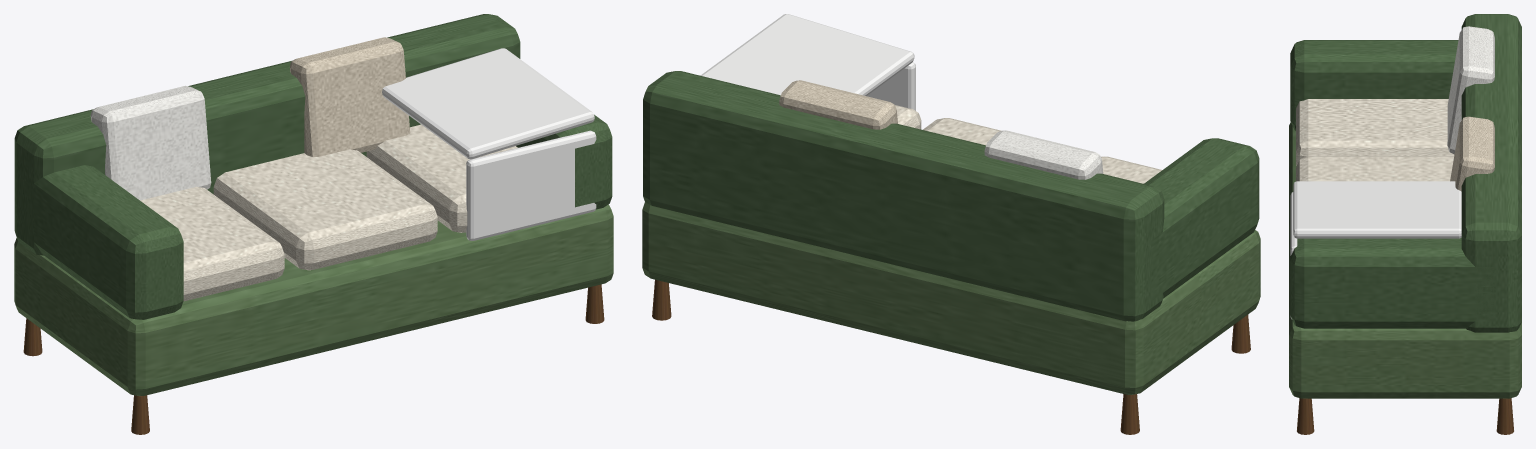
The model's file is sofa_lounge2.glb.
3 renders of one model, left to right at view 1: azimuth 30°, elevation 25°; view 2: azimuth 150°, elevation 25°; view 3: azimuth 270°, elevation 25°, orthographic. The views are drawn at different scales.
Visible parts, largest first — view 1: sofa_base, sofa_back, cush1, armL, blanketA, throwR, throwL, blanketB, cush0, cush2, armR, leg-11 (+2 smaller); view 2: sofa_back, sofa_base, armL, blanketA, throwL, throwR, blanketB, cush1, cush0, leg-1-1, leg1-1, leg-11; view 3: armR, sofa_base, sofa_back, armL, blanketA, cush0, cush1, throwL, throwR, leg1-1, leg11, blanketB.
Part boxes in pixels (x1,y1,x2,y2): sofa_base: (14, 204, 613, 395); sofa_back: (14, 14, 520, 255); cush1: (213, 149, 437, 270); armL: (24, 165, 183, 319); blanketA: (382, 48, 594, 159); throwR: (290, 37, 410, 156); throwL: (90, 85, 211, 200); blanketB: (466, 130, 596, 240); cush0: (140, 186, 284, 301); cush2: (366, 124, 517, 232); armR: (516, 114, 612, 209); leg-11: (131, 395, 149, 434); sofa_back: (643, 71, 1164, 321); sofa_base: (642, 202, 1260, 394); armL: (1144, 138, 1259, 300); blanketA: (700, 14, 914, 95); throwL: (984, 130, 1103, 179); throwR: (779, 80, 897, 129); blanketB: (866, 62, 915, 110); cush1: (923, 118, 1001, 145); cush0: (1101, 156, 1162, 183); leg-1-1: (1120, 394, 1139, 434); leg1-1: (652, 279, 671, 320); leg-11: (1231, 314, 1250, 353); armR: (1290, 238, 1495, 328); sofa_base: (1289, 122, 1521, 398); sofa_back: (1461, 14, 1521, 332); armL: (1290, 40, 1458, 130); blanketA: (1293, 181, 1461, 238); cush0: (1296, 99, 1454, 165); cush1: (1296, 156, 1453, 181); throwL: (1447, 26, 1494, 154); throwR: (1450, 116, 1494, 191); leg1-1: (1496, 398, 1513, 434); leg11: (1297, 398, 1314, 434); blanketB: (1290, 192, 1297, 319).
Bounding box in the file's own units: 1.9 × 0.9032 × 0.85.
Materials: 7 (6 with a texture image).
